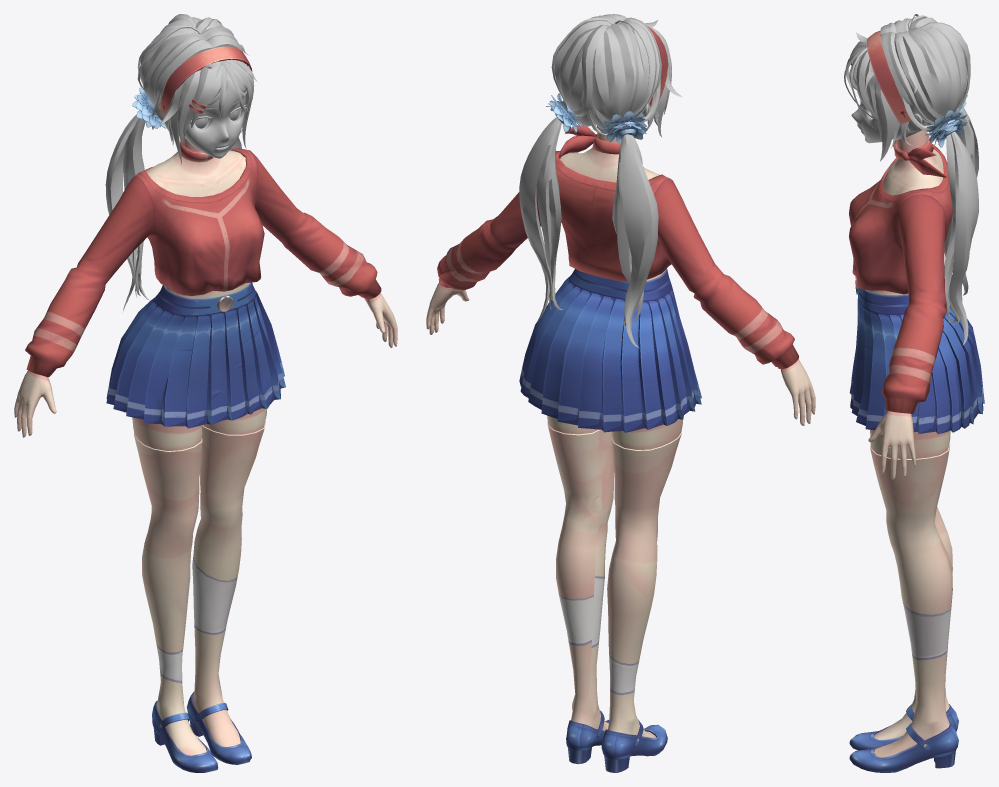
3 renders of one model, left to right at view 1: azimuth 30°, elevation 25°; view 2: azimuth 150°, elevation 25°; view 3: azimuth 270°, elevation 25°, orthographic.
Parts seen in each view (by area): view 1: Sweater_2, Pantyhose, Skirt, Hair, Body, Shoes, Head_1, Attribute; view 2: Pantyhose, Skirt, Hair, Sweater_2, Body, Shoes, Attribute; view 3: Sweater_2, Hair, Pantyhose, Skirt, Body, Shoes, Attribute, Head_1.
Boxes of the visible parts, x1,y1,x2,y2 form: Sweater_2: (25,140,381,377); Pantyhose: (134,421,265,755); Skirt: (106,282,285,428); Hair: (105,14,257,312); Body: (14,136,397,451); Shoes: (152,692,251,772); Head_1: (154,86,246,158); Attribute: (132,46,252,129); Pantyhose: (547,421,681,737); Skirt: (519,268,701,432); Hair: (519,14,682,347); Sweater_2: (437,125,798,369); Body: (426,127,815,449); Shoes: (566,710,667,772); Attribute: (546,18,668,143); Sweater_2: (849,135,952,413); Hair: (844,14,978,345); Pantyhose: (870,444,952,757); Skirt: (849,277,984,434); Body: (866,130,950,479); Shoes: (849,704,958,772); Attribute: (866,30,967,147); Head_1: (851,90,924,143).
Size of the model in its own units: 185 by 345 by 59.95.
